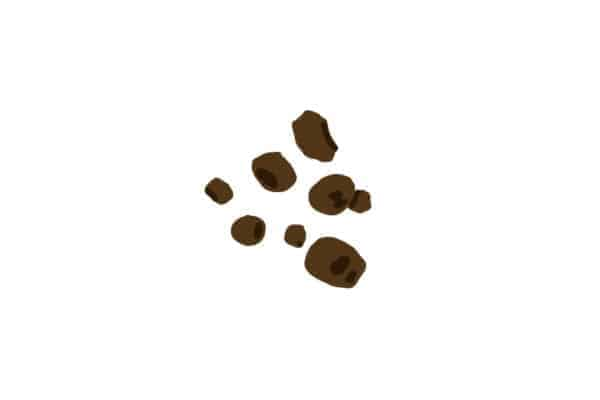Dog: (206, 110, 373, 288)
